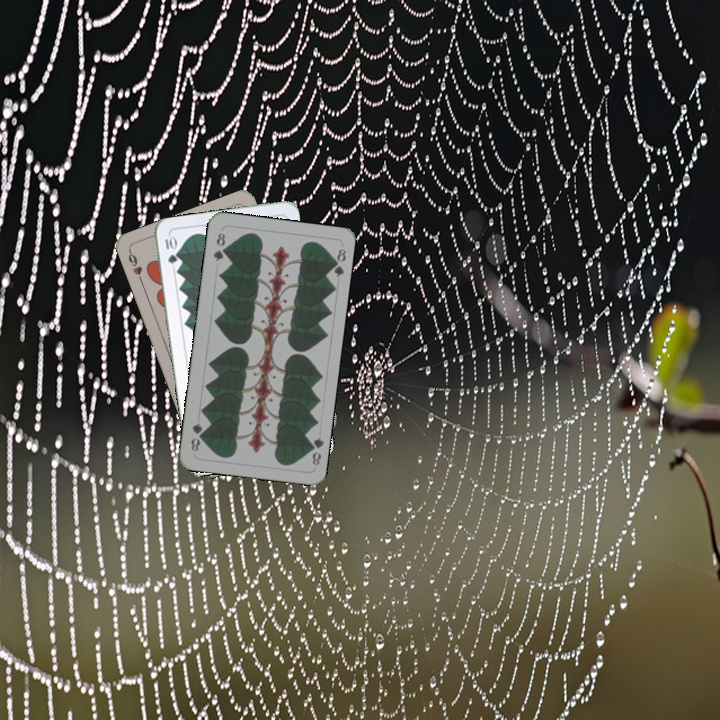G10: (161, 232, 179, 266)
G8: (304, 433, 325, 468), (209, 229, 228, 264)
H9: (124, 247, 146, 286)
